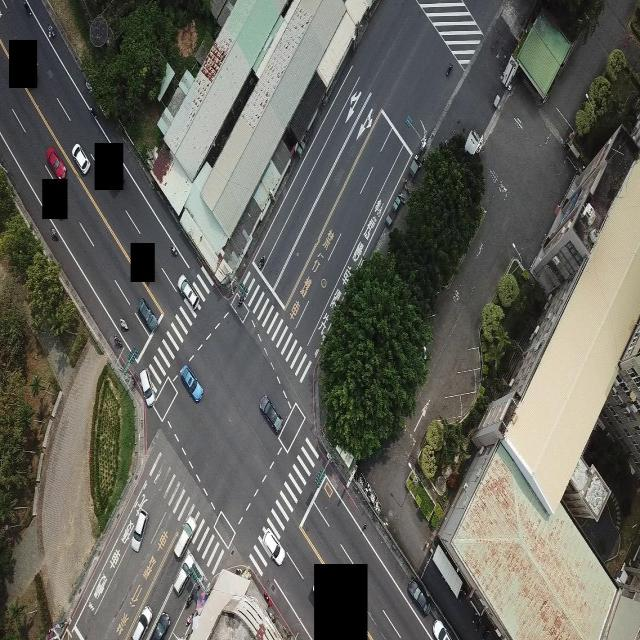bike: (446, 62, 454, 78), (26, 0, 34, 16), (113, 335, 121, 349), (172, 241, 179, 256), (119, 317, 127, 330), (47, 25, 54, 39), (258, 254, 265, 268), (90, 106, 98, 116)
car: (260, 395, 284, 436), (174, 552, 196, 596), (261, 526, 285, 566), (180, 363, 202, 401), (409, 578, 431, 616), (178, 520, 198, 560), (178, 273, 200, 308), (133, 604, 153, 640), (46, 147, 67, 180), (132, 510, 148, 552), (139, 297, 159, 330), (140, 369, 156, 407), (72, 143, 90, 174), (434, 619, 459, 640), (156, 613, 172, 640)
